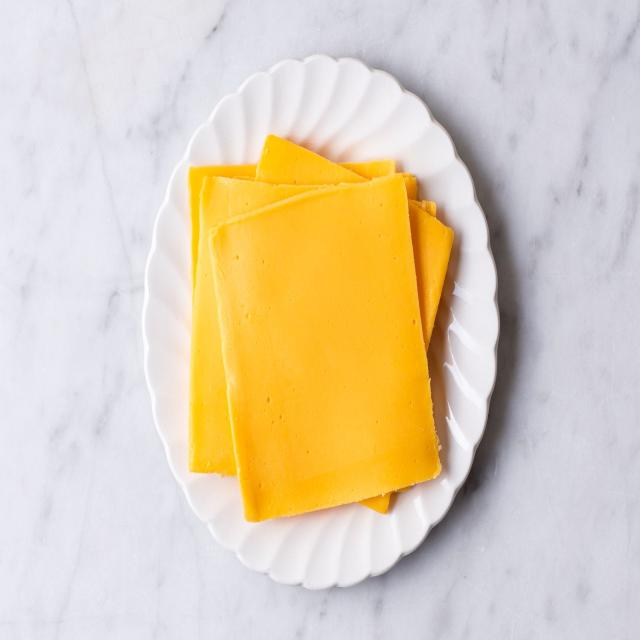Cheese: (183, 136, 462, 527)
